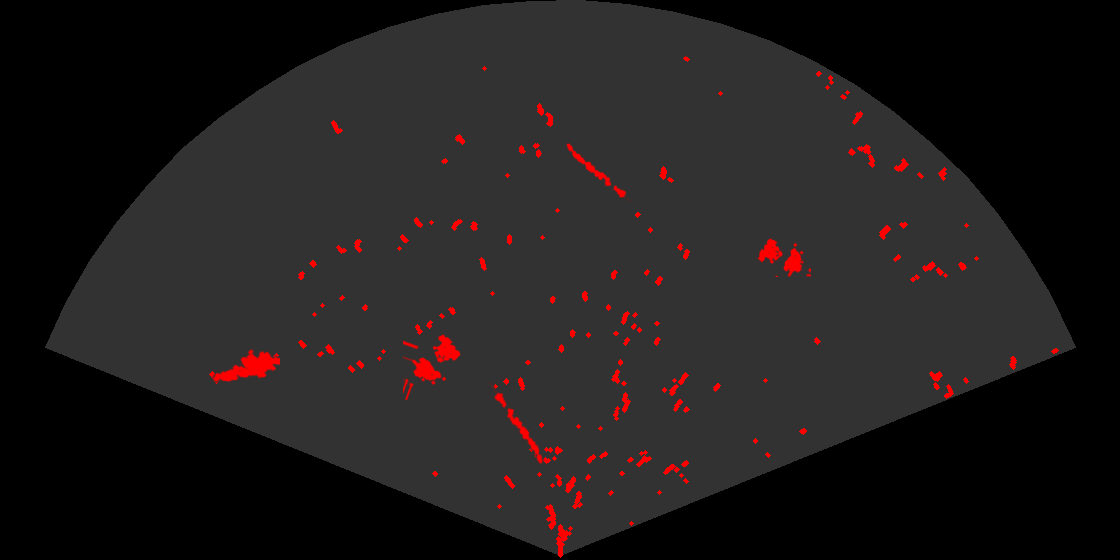cage: (403, 332, 462, 400), (756, 237, 811, 277)
chain: (487, 382, 545, 465), (565, 142, 631, 204)
frogman: (211, 347, 280, 384)
